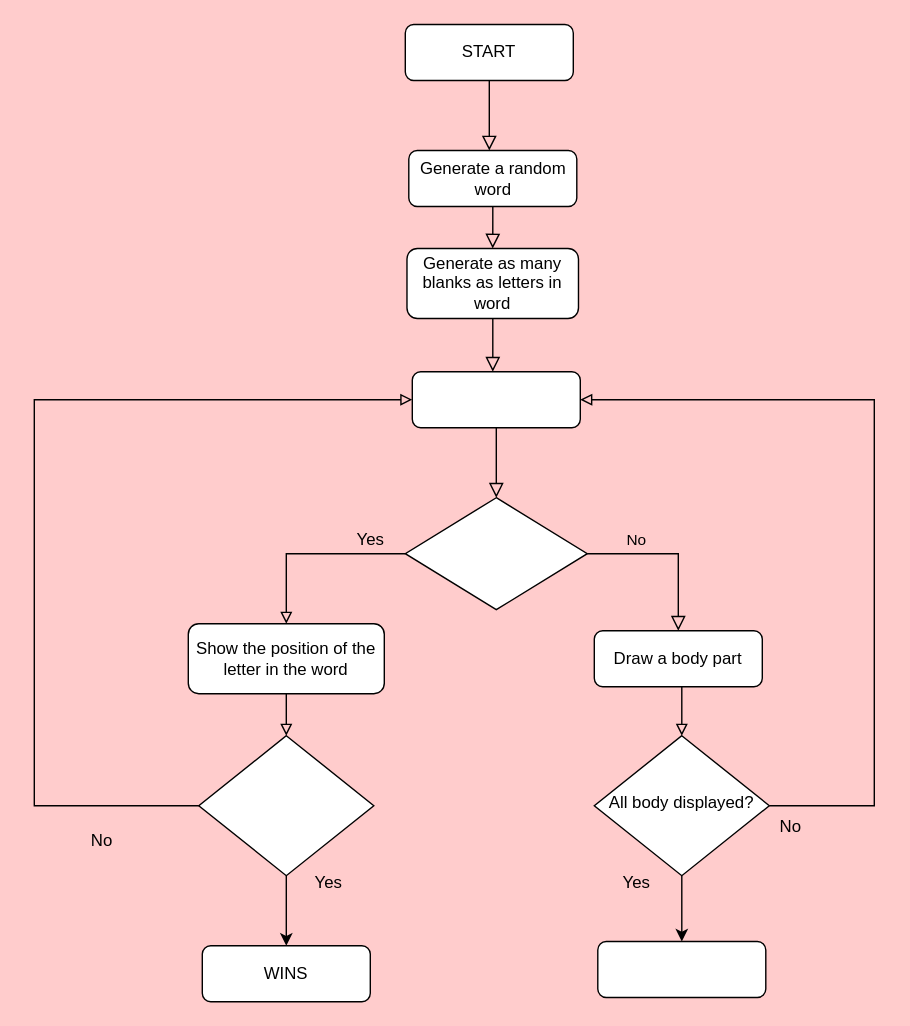
The diagram is 910 pixels wide and 1026 high, and some of its shapes have lost their labels. Each missing label, with the centre of its shape:
All letters displayed?: the point at 285,805
Ask the user to guess a letter: the point at 495,399
Letter in word?: the point at 495,553
LOSES: the point at 681,968
